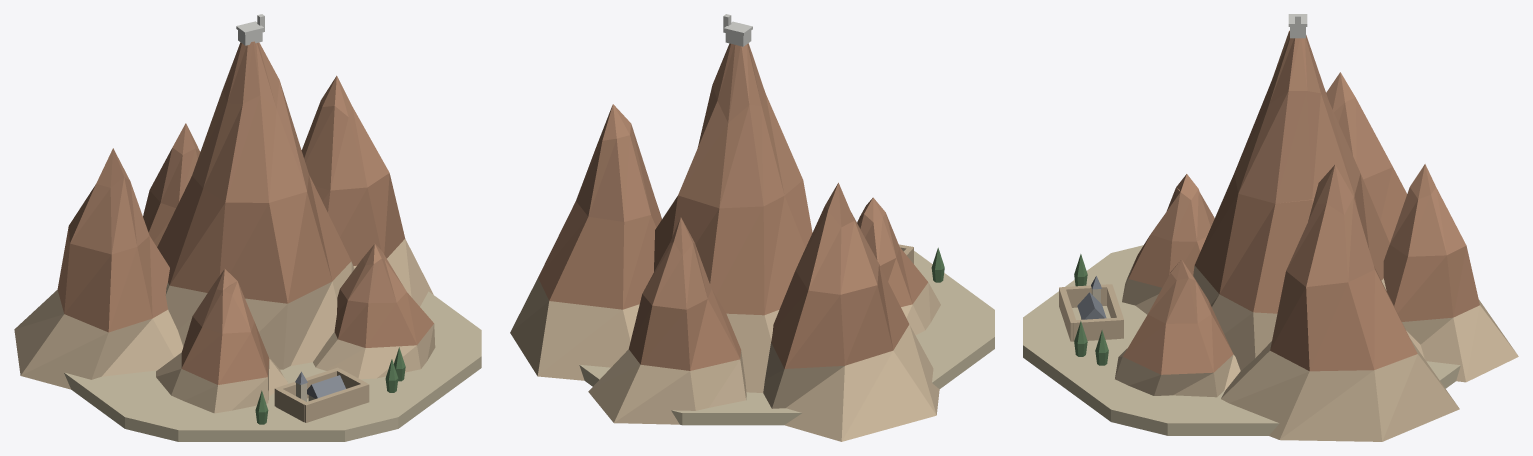
File: mt-sinai.glb
3 views of the same model, side by side, from view 1: azimuth 30°, elevation 25°; view 2: azimuth 150°, elevation 25°; view 3: azimuth 270°, elevation 25° (orthographic). The views are drawn at different scales.
Parts seen in each view (by area): view 1: LOD0; view 2: LOD0; view 3: LOD0.
Boxes of the visible parts, box(x1,y1,x2,y2) form: LOD0: box(14, 14, 481, 441); LOD0: box(510, 14, 994, 441); LOD0: box(1023, 14, 1518, 441).
Size of what is drawn, in the model's own units: 1.81 by 1.41 by 1.87.
